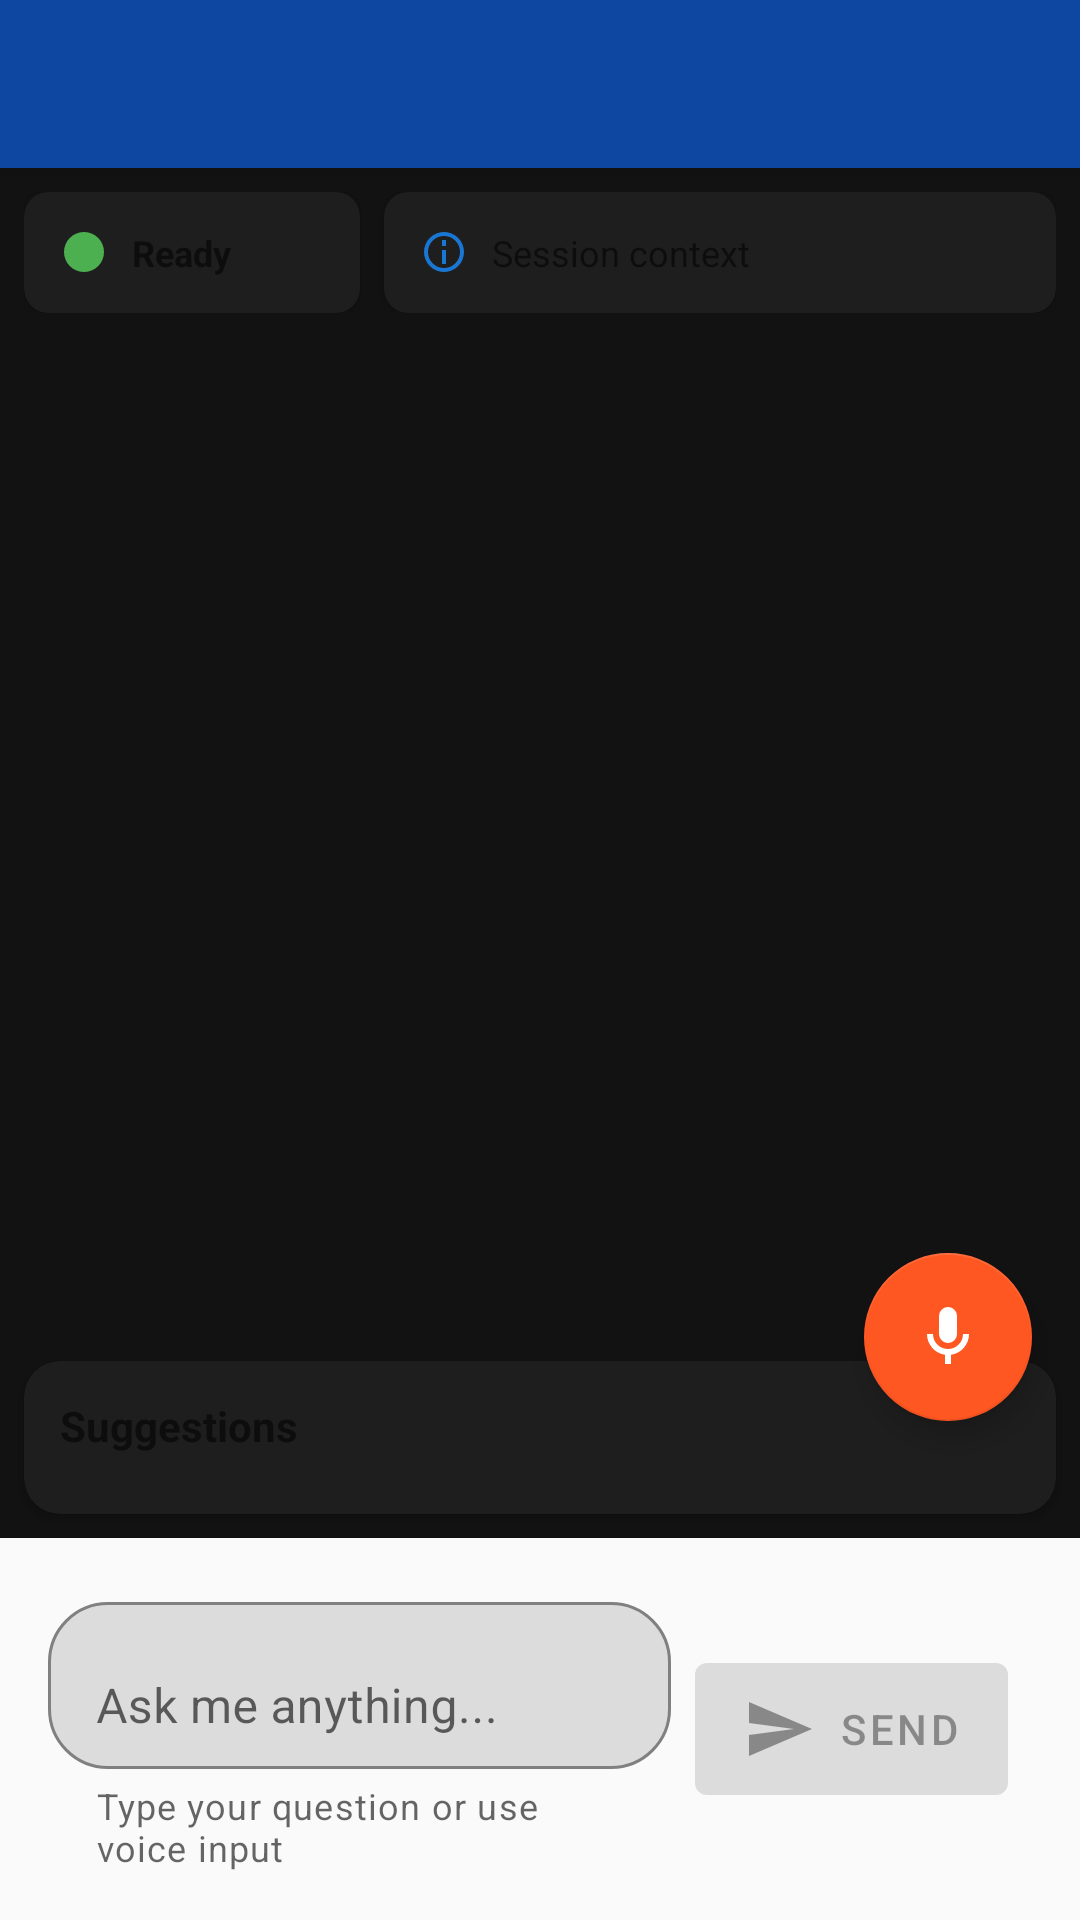

Icons on this 1080px×1920px Android screen, each with its box as (x1,y1,x2,y2):
info: (424,232,464,272)
mic: (864,1253,1032,1421)
